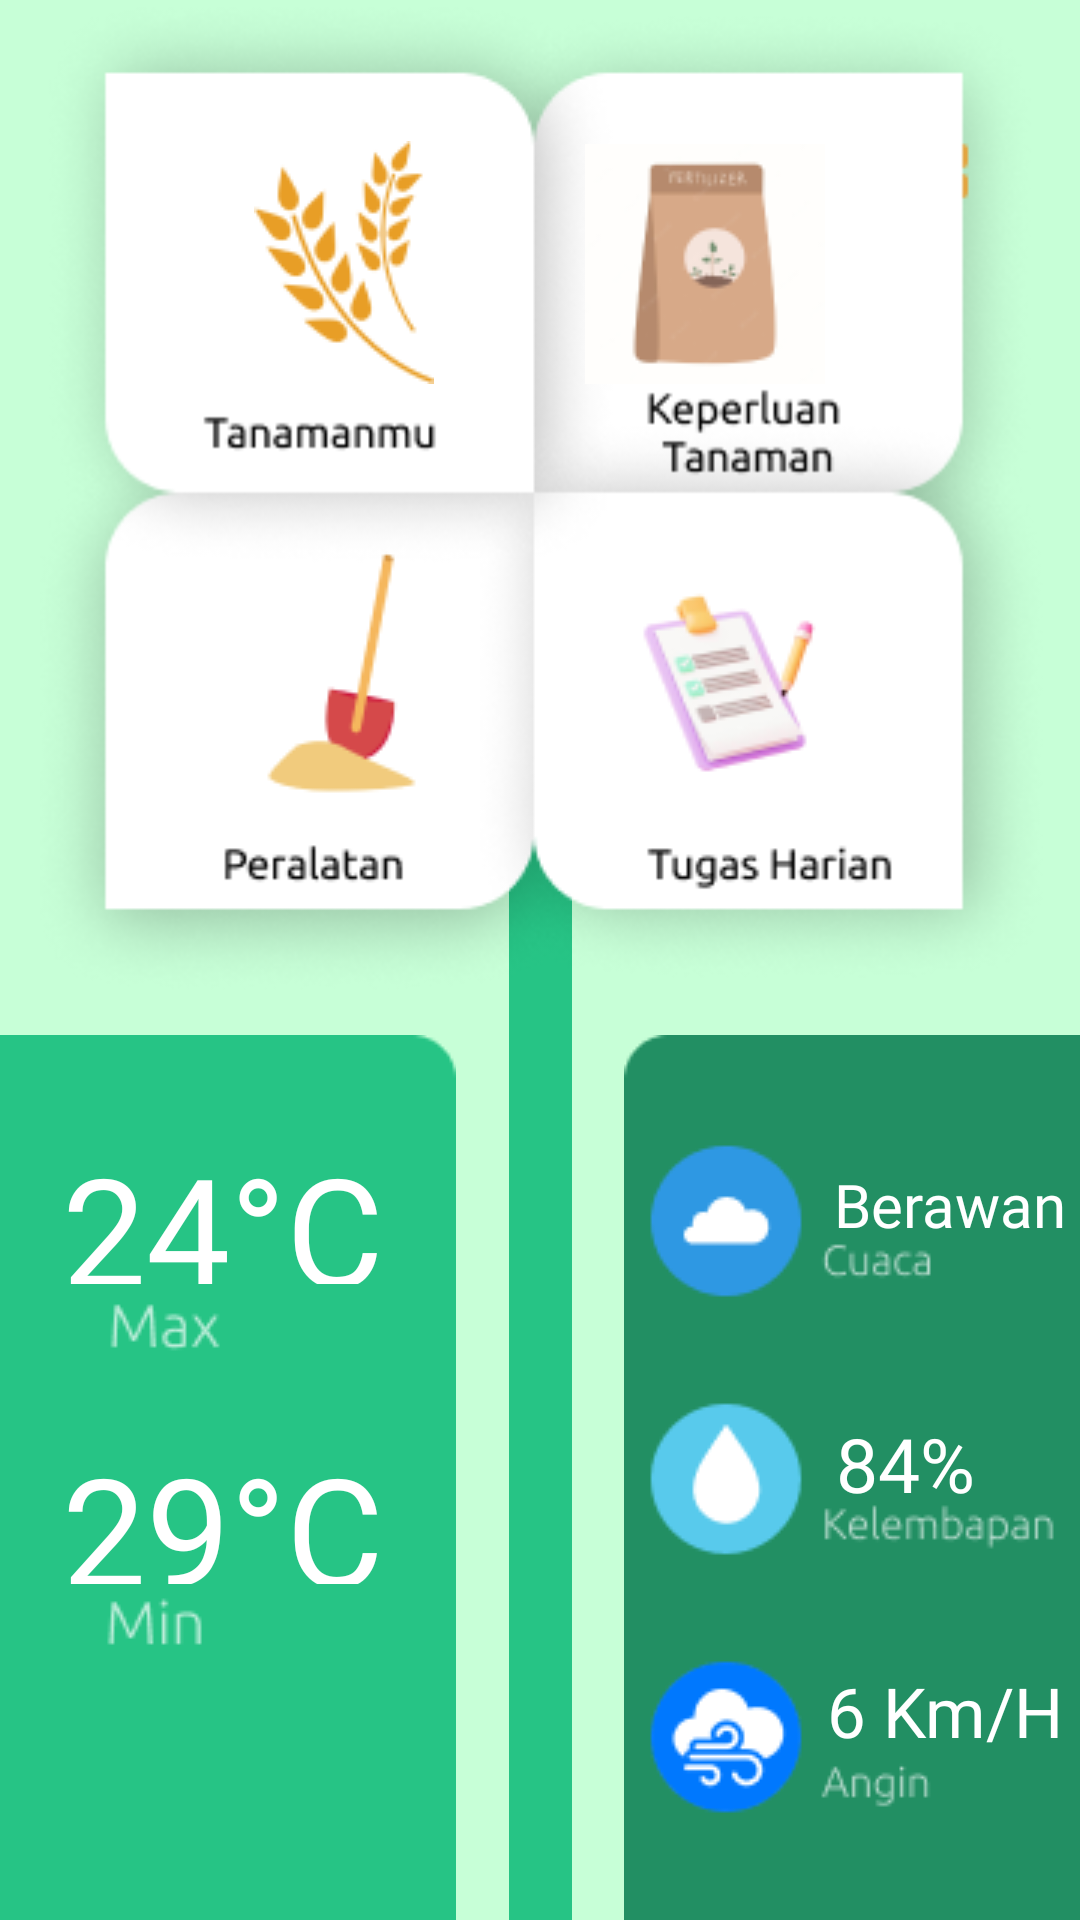

Screen size 1080px×1920px. Icon name, then its center in pixels as [x,y]:
catetan: [729,683]
gandum: [344,262]
sekop: [341,673]
